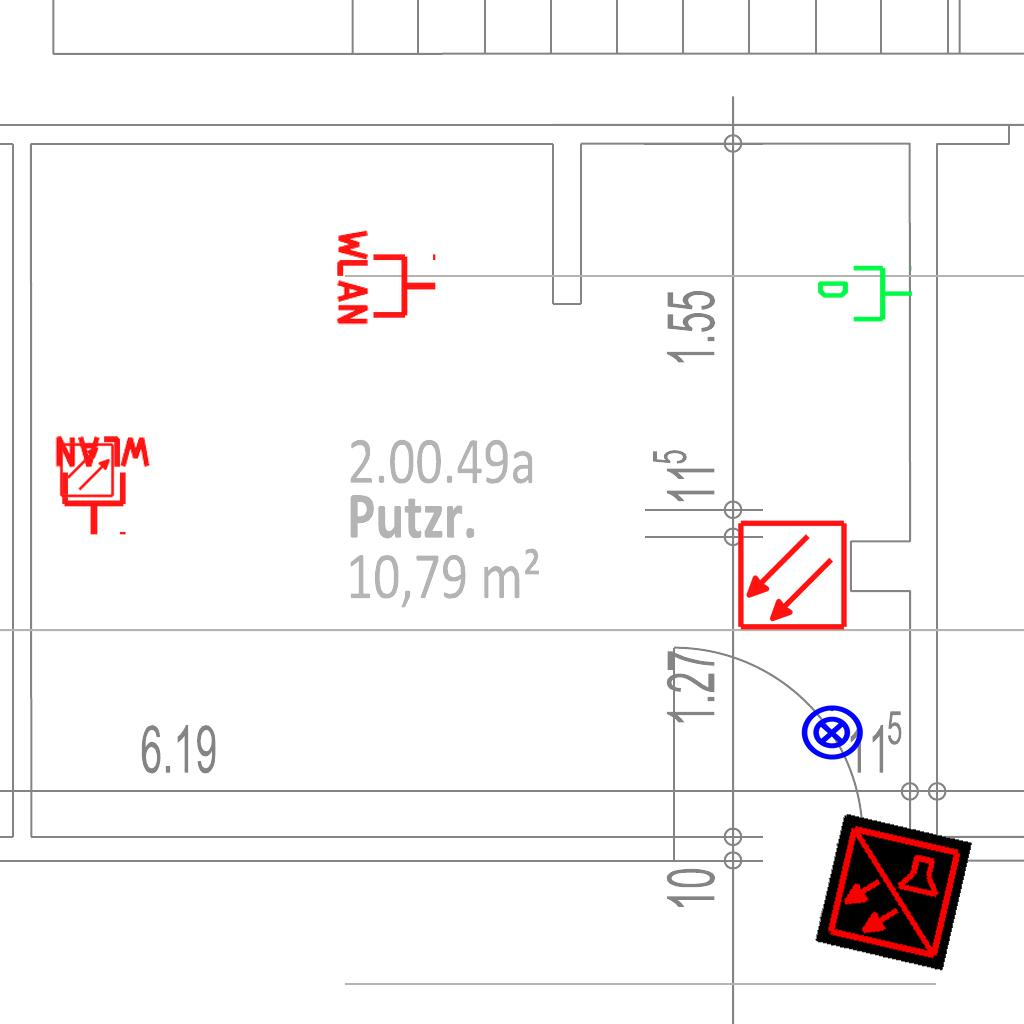Datenanschluss_einfach: (815, 261, 915, 330)
OKW_Multisensormelder_(Kombination_optischer_Rauch-Kahlenmonoxid_Waerme-Melder): (813, 812, 973, 972)
RMO_Rauchmelder_optischer: (736, 519, 849, 632), (59, 442, 115, 498)
Taster_beleuchtet: (799, 700, 865, 766)
WLAN: (51, 434, 155, 539), (335, 225, 440, 329)
